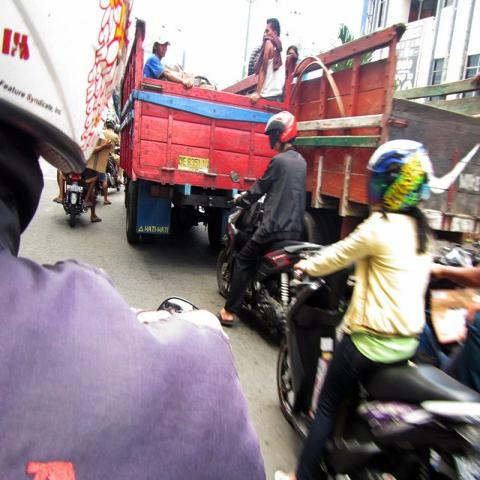motorcycle: (279, 266, 478, 474), (215, 220, 313, 337), (58, 174, 87, 228)
truck: (114, 16, 400, 242)
